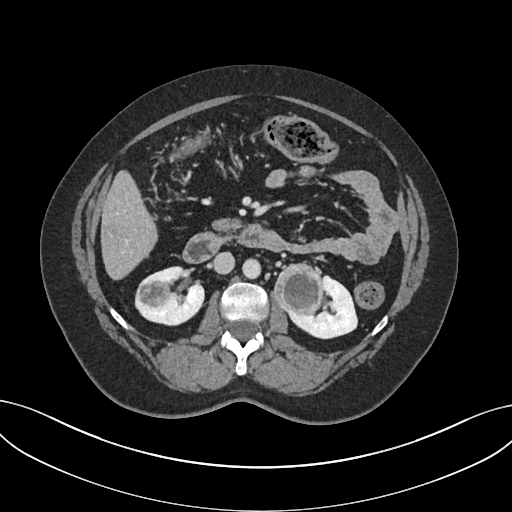Lesion: (269, 260, 325, 318)
